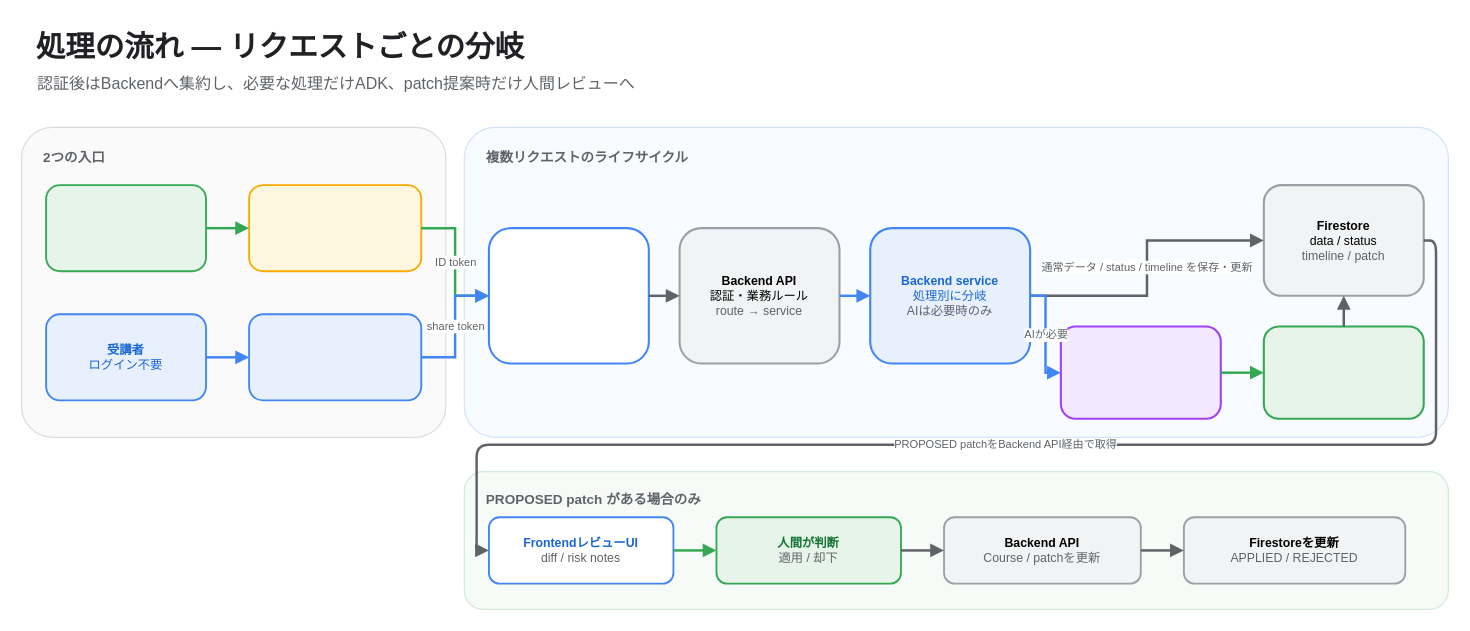
This 1470x631 diagram has some shape labels left out. Each missing label, with the centre of its shape:
"Backend検証 schema + 文脈 結果を保存・更新" goes at point (1343, 372).
"Firebase Auth ID token" goes at point (335, 228).
"Frontend React + Vite tokenをAPIへ付与" goes at point (568, 295).
"Google ADK Vertex AI / Gemini taskを固定" goes at point (1140, 372).
"共有URL share token" goes at point (335, 357).
"教材オーナー Google ログイン" goes at point (125, 228).
